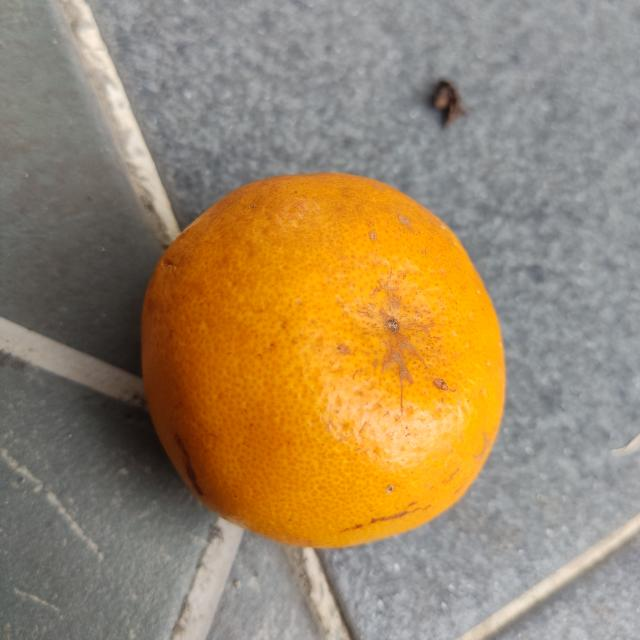orange: (135, 168, 510, 550)
